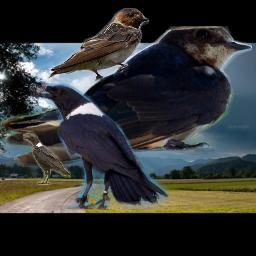Crow: (30, 83, 169, 210), (23, 133, 71, 185)
Swallow: (0, 26, 252, 167), (45, 7, 149, 82)
